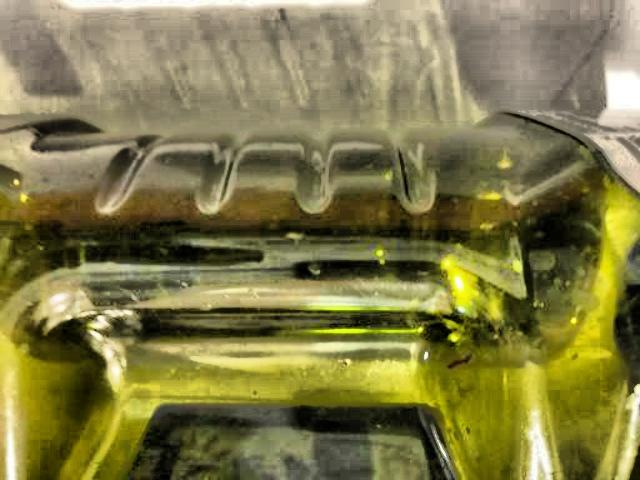Plastic: (0, 110, 640, 480)
